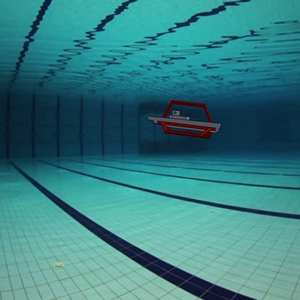submarine: (144, 91, 229, 149)
